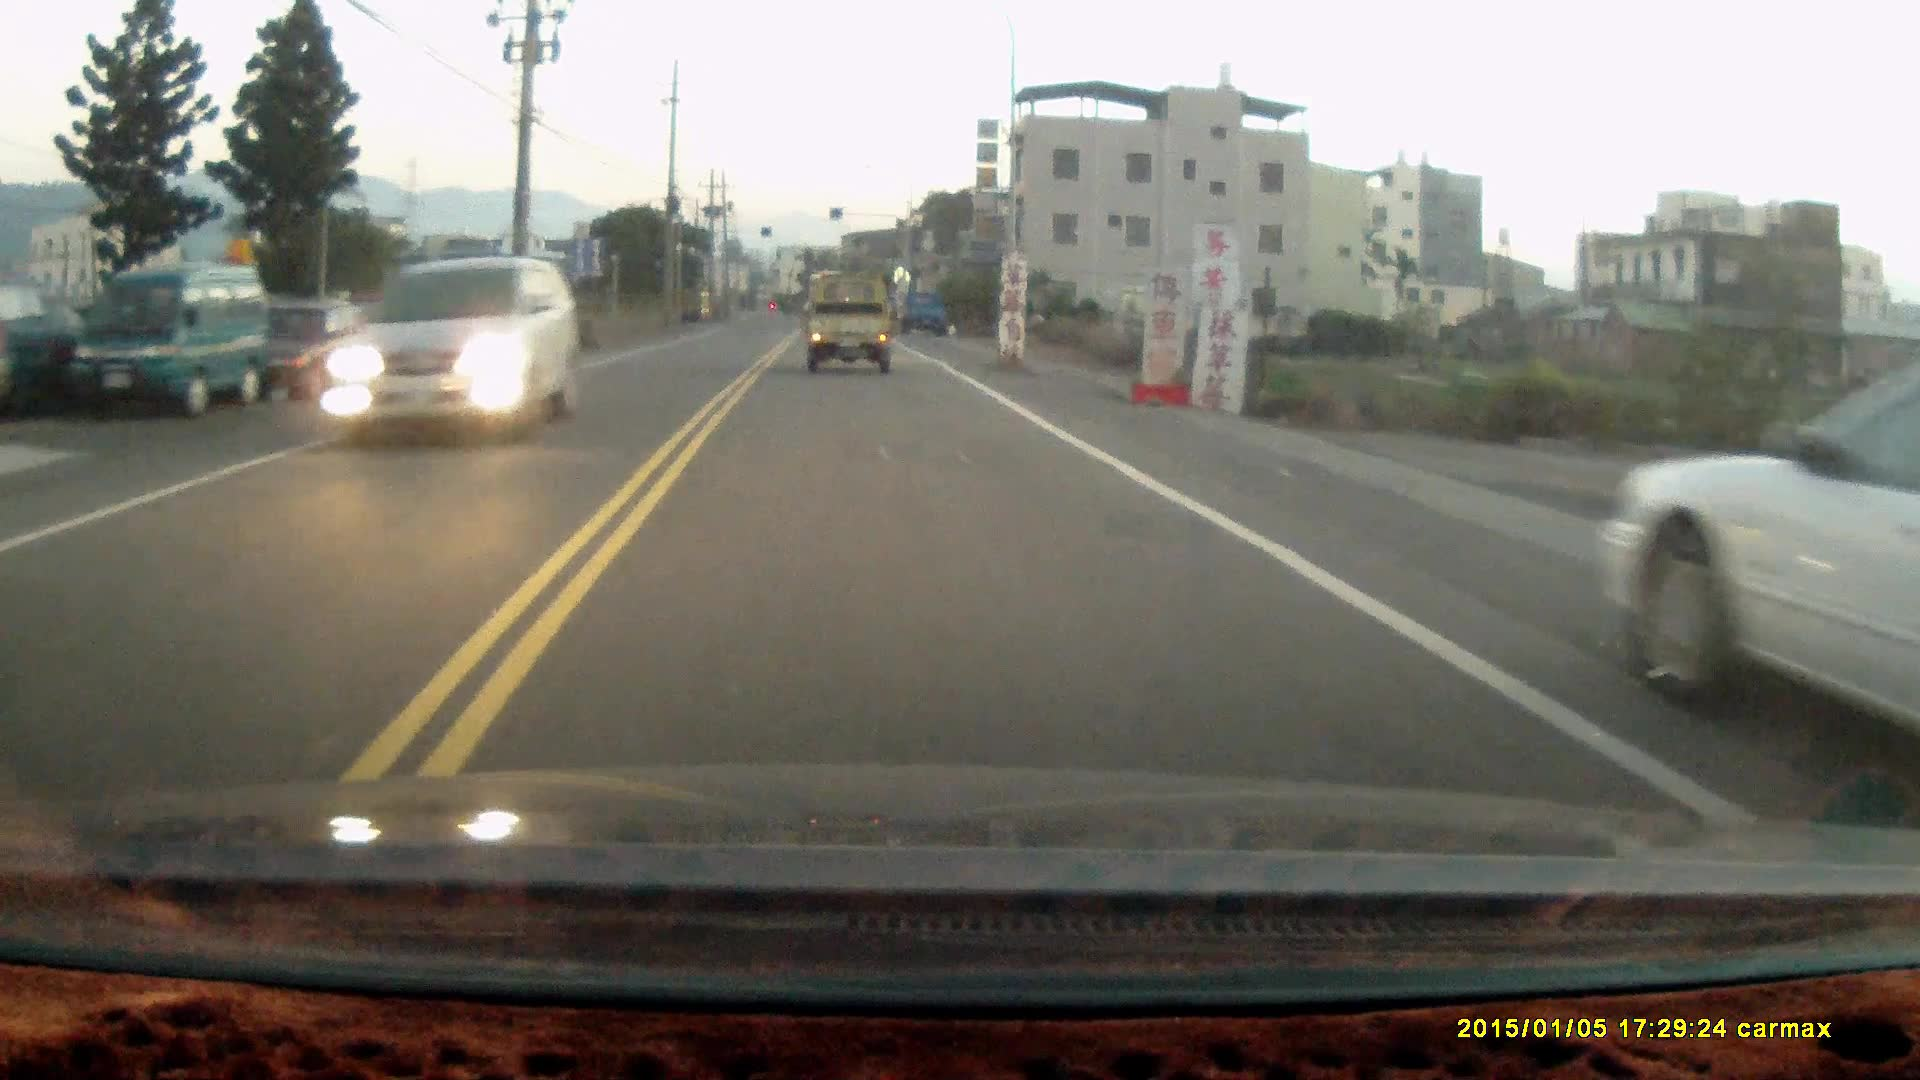vehicle: (1600, 364, 1920, 748), (338, 257, 576, 465), (59, 256, 266, 411), (237, 291, 396, 410), (804, 276, 899, 373), (901, 290, 953, 335)
